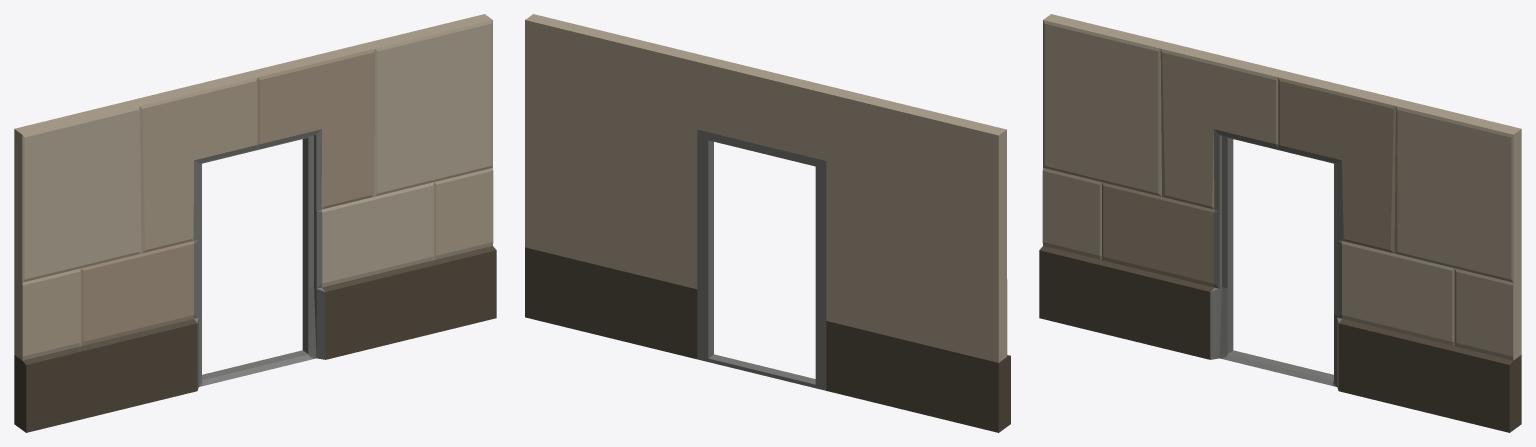
The model's file is Wall_Exterior_Door_01.glb.
3 renders of one model, left to right at view 1: azimuth 30°, elevation 25°; view 2: azimuth 150°, elevation 25°; view 3: azimuth 330°, elevation 25°, orthographic.
Visible parts, largest first — view 1: SM_Env_Wall_Exterior_Door_01; view 2: SM_Env_Wall_Exterior_Door_01; view 3: SM_Env_Wall_Exterior_Door_01.
Boxes of the visible parts, x1,y1,x2,y2 form: SM_Env_Wall_Exterior_Door_01: (14, 14, 496, 432); SM_Env_Wall_Exterior_Door_01: (525, 14, 1010, 432); SM_Env_Wall_Exterior_Door_01: (1039, 14, 1521, 432).
Size of the model in its own units: 5 by 3 by 0.2206.
Materials: 1 (1 with a texture image).
